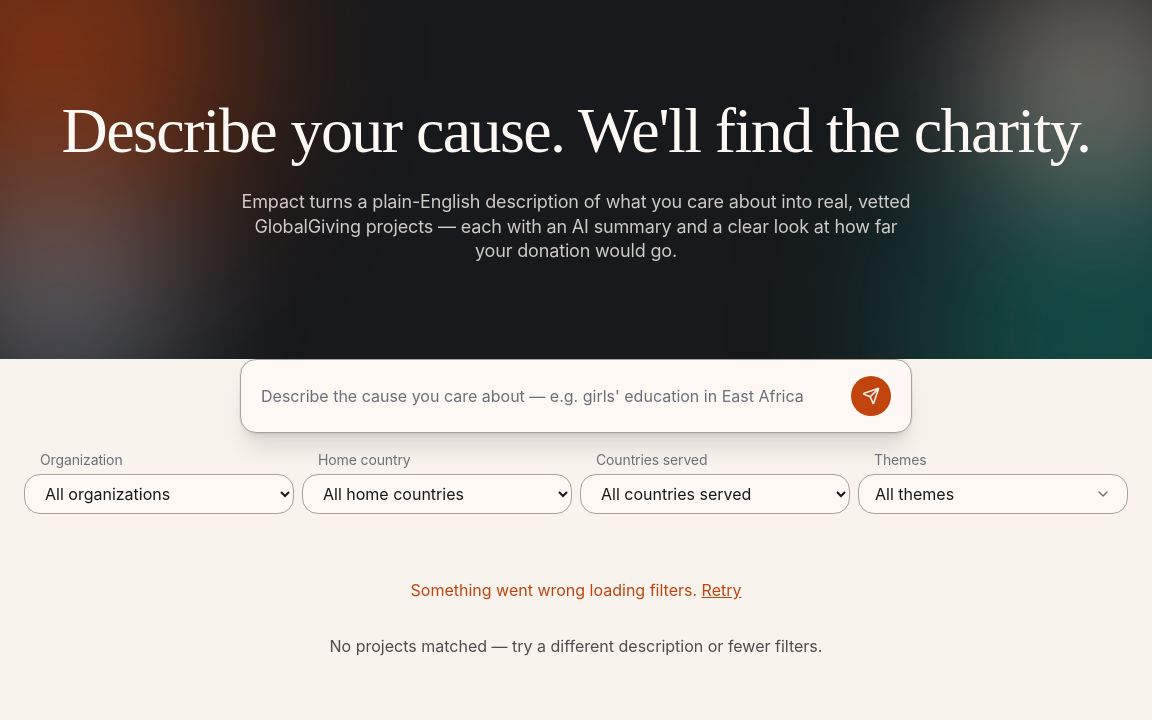
it: SearchPage › shows a Retry control when filter options fail to load, and recovers on click
The image size is (1152, 720).
Expected: the text "Something went wrong loading filters. Retry" is shown, left=410, top=578, right=741, bottom=602
Click the button "Retry" at (722, 590), box left=702, top=578, right=742, bottom=602
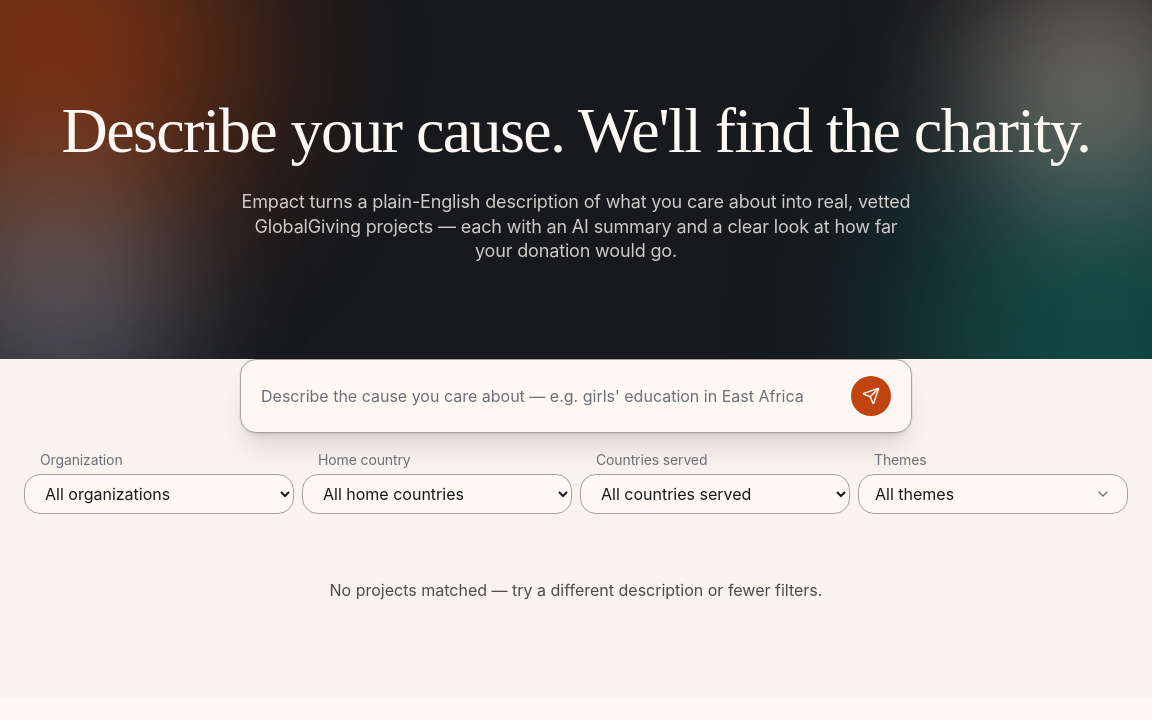
Now the text "Something went wrong loading filters" is gone
